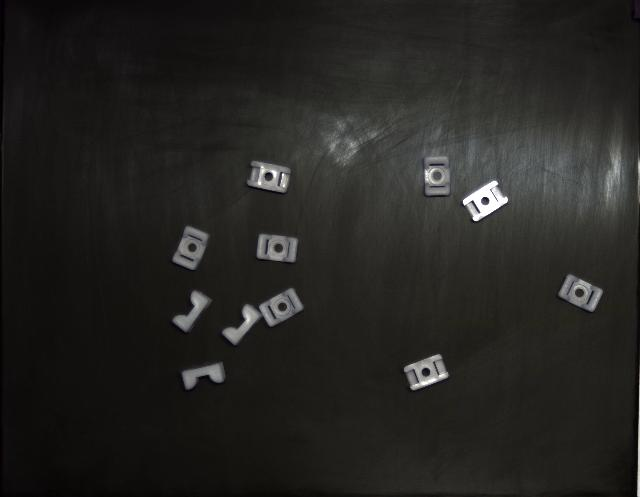first_side: (259, 289, 304, 328), (172, 226, 210, 271), (558, 275, 602, 312), (256, 234, 299, 264), (424, 156, 450, 196)
second_side: (462, 181, 508, 221), (404, 355, 449, 391), (248, 161, 291, 194)
third_side: (222, 305, 261, 346), (172, 291, 211, 332), (181, 362, 225, 390)
